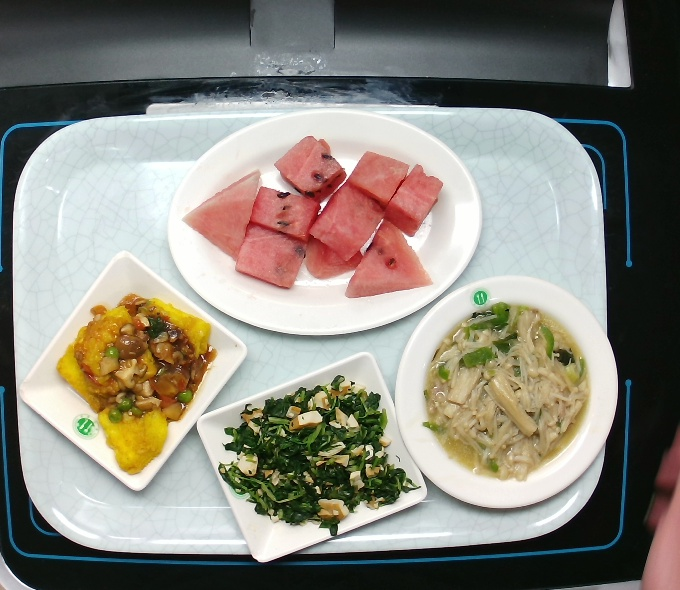wcq-CuiPiDouFu: (55, 288, 216, 478)
wcq-JinZhenGu: (420, 301, 594, 481)
wcq-MaLanTouChaoDouGan: (219, 371, 420, 543)
wcq-XiGua: (177, 130, 448, 302)
